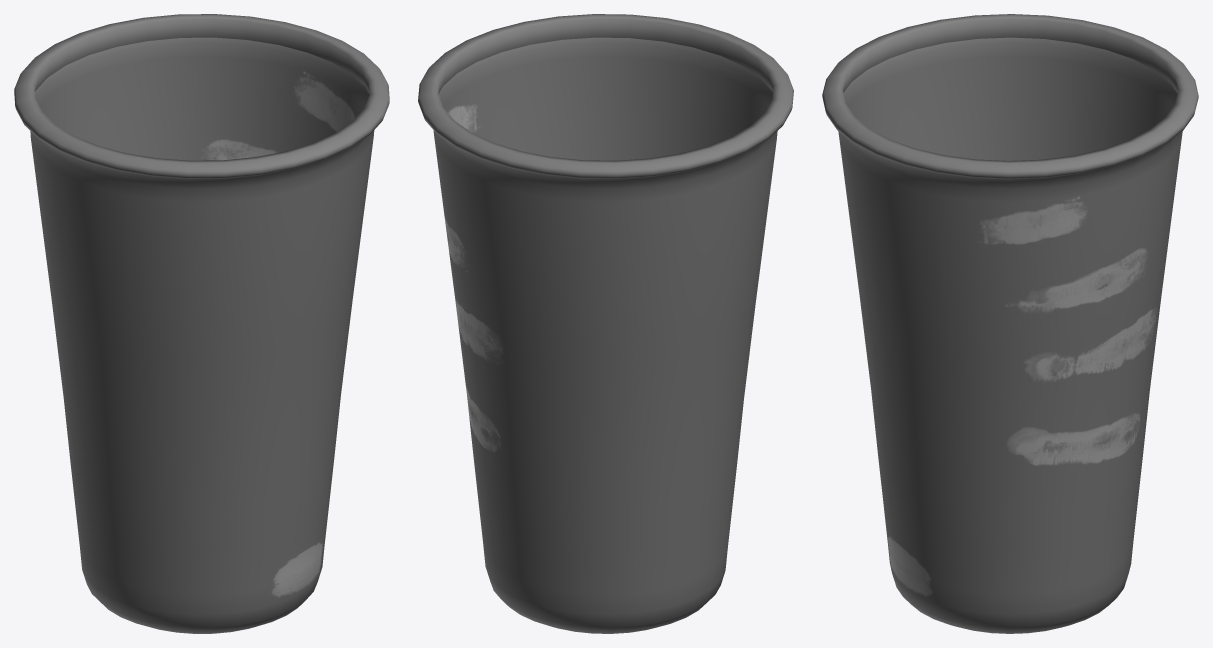
Rendered from plastic_cup.fbx.
3 renders of one model, left to right at view 1: azimuth 30°, elevation 25°; view 2: azimuth 150°, elevation 25°; view 3: azimuth 270°, elevation 25°, orthographic.
Parts seen in each view (by area): view 1: SM_plastic_cup; view 2: SM_plastic_cup; view 3: SM_plastic_cup.
Boxes of the visible parts, x1,y1,x2,y2 form: SM_plastic_cup: (14, 14, 389, 633); SM_plastic_cup: (418, 14, 793, 633); SM_plastic_cup: (822, 14, 1198, 633).
Bounding box in the file's own units: 36.92 × 55.54 × 36.92.
1 material, 1 textured.
